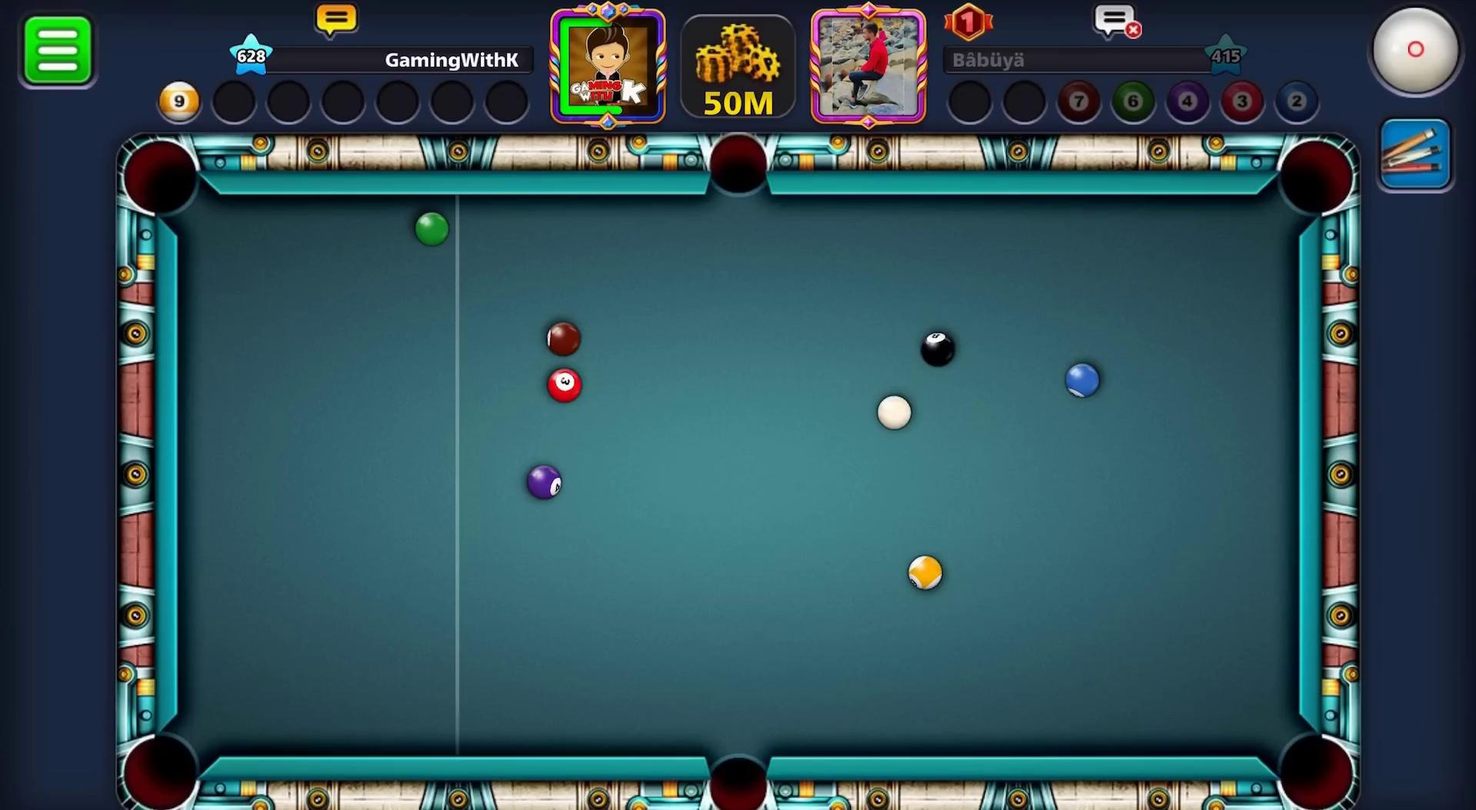Ball: (511, 455, 574, 506), (531, 359, 591, 408), (532, 317, 585, 364), (1060, 357, 1107, 408), (917, 327, 961, 369), (905, 552, 946, 597), (408, 210, 449, 249)
Hole: (102, 708, 223, 809), (106, 124, 211, 228), (1259, 712, 1366, 809), (1267, 127, 1364, 230), (682, 715, 778, 809), (701, 121, 785, 217)
Play_Area: (185, 195, 1300, 758)
Spin: (1362, 0, 1475, 111)
White: (872, 388, 918, 435)
